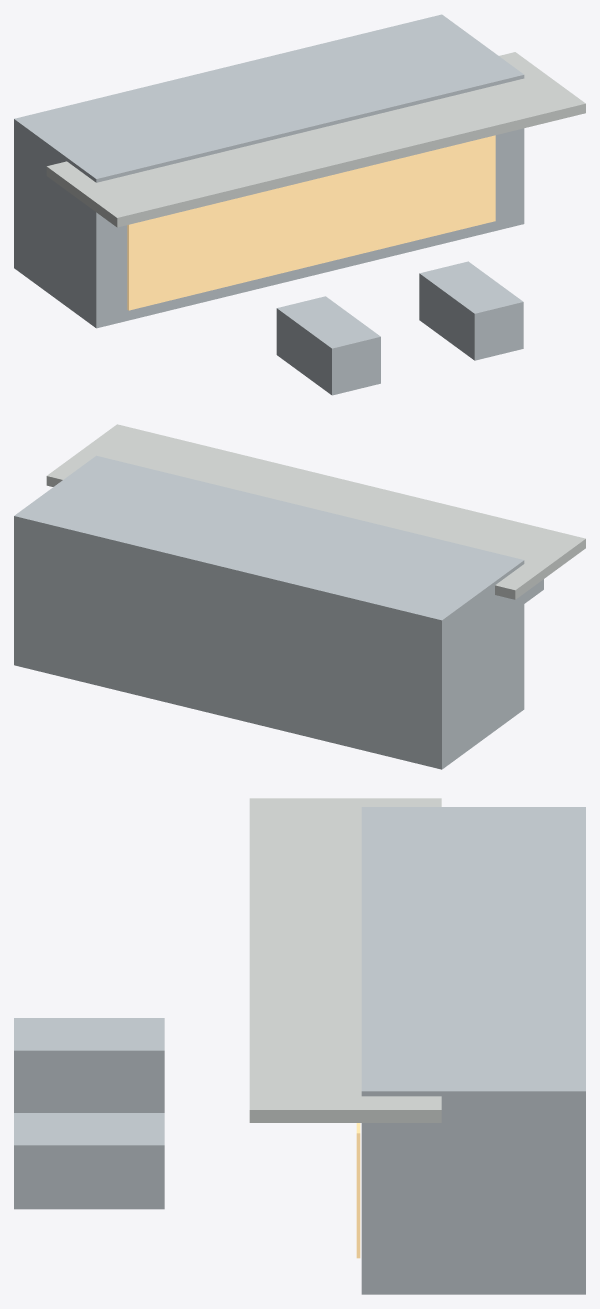
Rendered from emergency.glb.
3 renders of one model, top to bottom at view 1: azimuth 30°, elevation 25°; view 2: azimuth 150°, elevation 25°; view 3: azimuth 270°, elevation 25°, orthographic. The views are drawn at different scales.
Visible parts, largest first — view 1: emergency_ivory, emergency_warmGlass, emergency_roof; view 2: emergency_ivory, emergency_roof; view 3: emergency_ivory, emergency_roof, emergency_warmGlass.
Boxes of the visible parts, x1=… form: emergency_ivory: x1=14, y1=14, x2=524, y2=395; emergency_warmGlass: x1=127, y1=135, x2=495, y2=310; emergency_roof: x1=46, y1=52, x2=585, y2=227; emergency_ivory: x1=14, y1=455, x2=543, y2=769; emergency_roof: x1=46, y1=424, x2=585, y2=599; emergency_ivory: x1=14, y1=807, x2=585, y2=1294; emergency_roof: x1=249, y1=798, x2=441, y2=1122; emergency_warmGlass: x1=356, y1=1123, x2=360, y2=1258.
Size of the model in its own units: 23 by 7 by 17.85.
